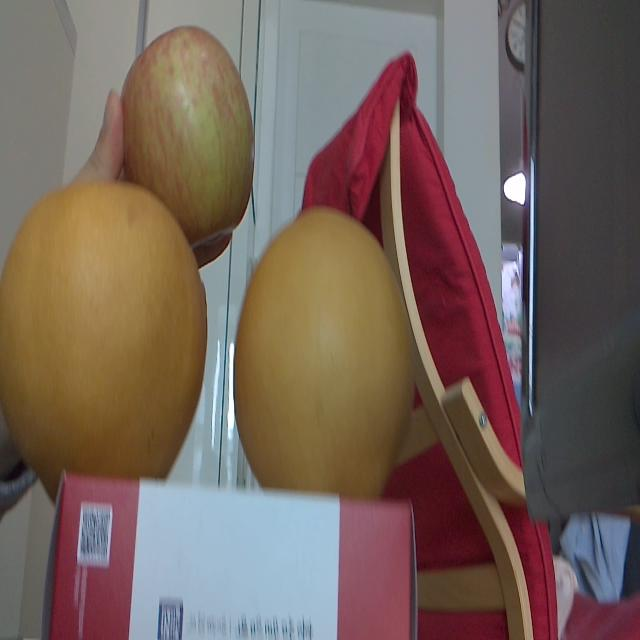apple: (110, 17, 260, 262)
pear: (1, 179, 213, 488), (237, 204, 418, 496)
